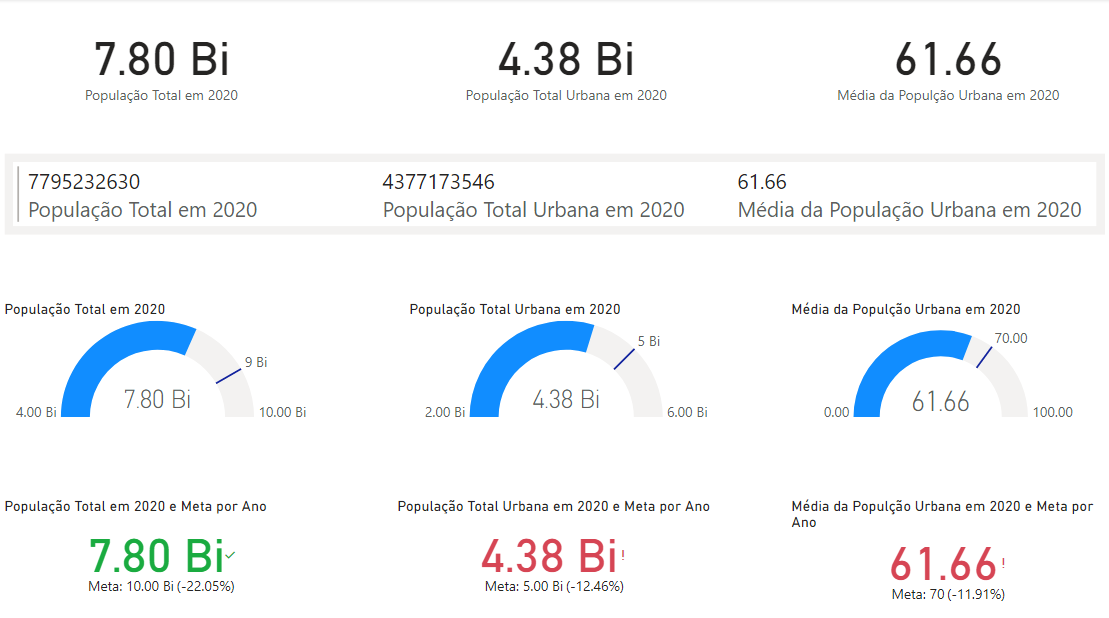

This screenshot's page, from the dashboard's own definition file:
{"tool":"powerbi","page":{"name":"Página 1","canvas":[1280,720],"ordinal":0},"visuals":[{"type":"card","fields":{"Values":["Sum(population.Population)"]},"box":[0,0,372.1,145.5],"z":0},{"type":"card","fields":{"Values":["Sum(population.UrbanPopulation)"]},"box":[467,0,372.1,145.5],"z":1000},{"type":"card","fields":{"Values":["Avg(population.UrbanPop%)"]},"box":[907.9,0,372.1,145.5],"z":2000},{"type":"multiRowCard","fields":{"Values":["Sum(population.Population)","Sum(population.UrbanPopulation)","Avg(population.UrbanPop%)"]},"box":[0,173,1280,108.7],"z":3000},{"type":"gauge","fields":{"Y":["Sum(population.Population)"]},"box":[0,347.6,372.1,145.5],"z":4000},{"type":"gauge","fields":{"Y":["Avg(population.UrbanPop%)"]},"box":[907.9,347.6,372.1,145.5],"z":5000},{"type":"gauge","fields":{"Y":["Sum(population.UrbanPopulation)"]},"box":[467,347.6,372.1,145.5],"z":6000},{"type":"kpi","fields":{"Indicator":["Sum(population.Population)"],"Goal":["population.alvo_populacao_total"],"TrendLine":["population.Year"]},"box":[0,574.2,372.1,145.5],"z":7000},{"type":"kpi","fields":{"Indicator":["Avg(population.UrbanPop%)"],"TrendLine":["population.Year"],"Goal":["population.alvo_med_pop_urb"]},"box":[907.9,574.2,372.1,145.5],"z":8000},{"type":"kpi","fields":{"Goal":["population.alvo_pop_urb"],"TrendLine":["population.Year"],"Indicator":["Sum(population.UrbanPopulation)"]},"box":[453.2,574.2,372.1,145.5],"z":9000}]}

Visuals, with their boxes in screenshot pixels (x1, y1, x2, y2), scaled from the page's 1280x720 canvas onto the 1109x618 screenshot:
card - Sum(population.Population): pyautogui.locateOnScreen(0, 0, 322, 125)
card - Sum(population.UrbanPopulation): pyautogui.locateOnScreen(405, 0, 727, 125)
card - Avg(population.UrbanPop%): pyautogui.locateOnScreen(787, 0, 1108, 125)
multiRowCard - Sum(population.Population) x Sum(population.UrbanPopulation): pyautogui.locateOnScreen(0, 148, 1108, 242)
gauge - Sum(population.Population): pyautogui.locateOnScreen(0, 298, 322, 423)
gauge - Avg(population.UrbanPop%): pyautogui.locateOnScreen(787, 298, 1108, 423)
gauge - Sum(population.UrbanPopulation): pyautogui.locateOnScreen(405, 298, 727, 423)
kpi - Sum(population.Population) x population.alvo_populacao_total: pyautogui.locateOnScreen(0, 493, 322, 617)
kpi - Avg(population.UrbanPop%) x population.Year: pyautogui.locateOnScreen(787, 493, 1108, 617)
kpi - population.alvo_pop_urb x population.Year: pyautogui.locateOnScreen(393, 493, 715, 617)
